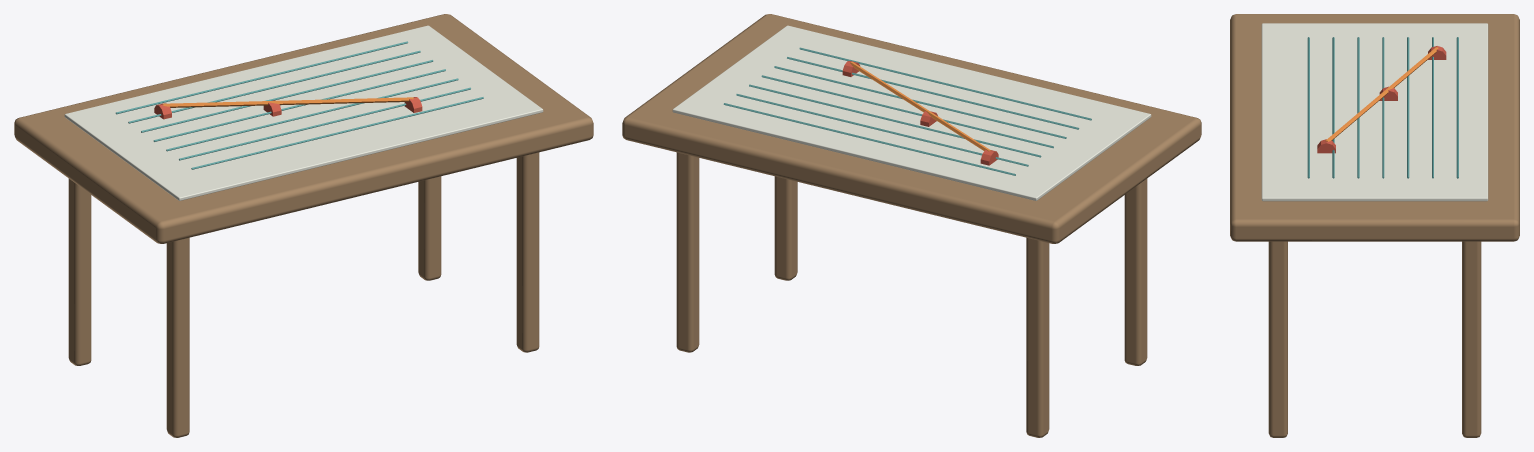
File: castaway-island-escape-route-planning-board-146f8d2b__28068.glb
3 views of the same model, side by side, from view 1: azimuth 30°, elevation 25°; view 2: azimuth 150°, elevation 25°; view 3: azimuth 270°, elevation 25° (orthographic).
Parts seen in each view (by area): view 1: route-planning-board-wood, route-planning-board-ivory, route-planning-board-teal, route-planning-board-orange, route-planning-board-red; view 2: route-planning-board-wood, route-planning-board-ivory, route-planning-board-teal, route-planning-board-orange, route-planning-board-red; view 3: route-planning-board-ivory, route-planning-board-wood, route-planning-board-teal, route-planning-board-orange, route-planning-board-red.
Boxes of the visible parts, left/top/right/bottom form: route-planning-board-wood: left=14, top=14, right=593, bottom=437; route-planning-board-ivory: left=64, top=25, right=543, bottom=200; route-planning-board-teal: left=115, top=41, right=483, bottom=169; route-planning-board-orange: left=163, top=97, right=413, bottom=107; route-planning-board-red: left=154, top=97, right=422, bottom=119; route-planning-board-wood: left=622, top=14, right=1201, bottom=437; route-planning-board-ivory: left=672, top=25, right=1151, bottom=200; route-planning-board-teal: left=723, top=47, right=1091, bottom=175; route-planning-board-orange: left=850, top=61, right=990, bottom=151; route-planning-board-red: left=842, top=61, right=998, bottom=165; route-planning-board-ivory: left=1261, top=23, right=1488, bottom=201; route-planning-board-wood: left=1230, top=14, right=1519, bottom=437; route-planning-board-teal: left=1307, top=37, right=1458, bottom=178; route-planning-board-orange: left=1325, top=47, right=1438, bottom=141; route-planning-board-red: left=1317, top=46, right=1446, bottom=153.
Size of the model in its own units: 1.8 by 1.01 by 1.05.
